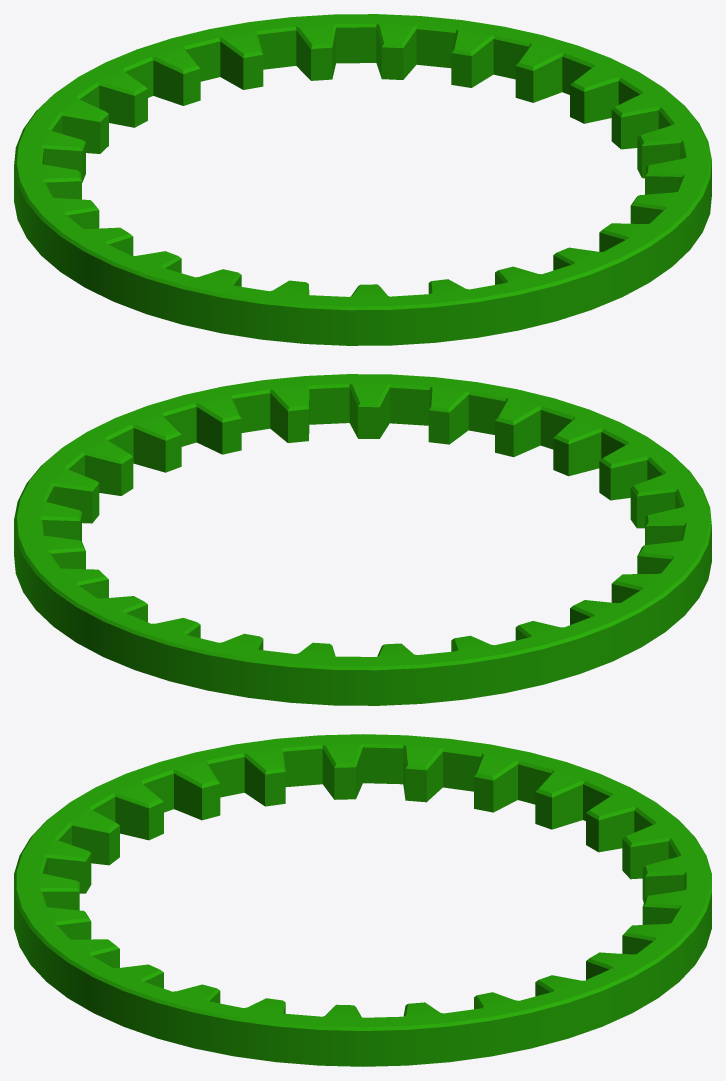
File: geo_gear_grandeInterieur.fbx
The picture shows the model from 3 angles, top to bottom: view 1: azimuth 30°, elevation 25°; view 2: azimuth 150°, elevation 25°; view 3: azimuth 270°, elevation 25°; orthographic projection.
Visible parts, largest first — view 1: geo_gear_grandeInterieur; view 2: geo_gear_grandeInterieur; view 3: geo_gear_grandeInterieur.
Boxes of the visible parts, left/top/right/bottom form: geo_gear_grandeInterieur: left=14, top=14, right=711, bottom=345; geo_gear_grandeInterieur: left=14, top=374, right=711, bottom=705; geo_gear_grandeInterieur: left=14, top=734, right=711, bottom=1066.
Bounding box in the file's own units: 7.46 × 0.4513 × 7.45.
